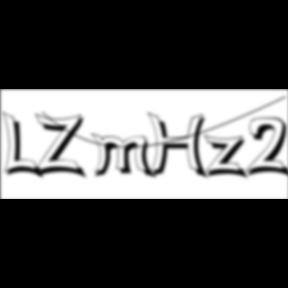H: (147, 112, 213, 182)
L: (2, 110, 46, 182)
Z: (36, 112, 90, 181)
m: (91, 132, 159, 181)
z: (204, 134, 252, 182)
